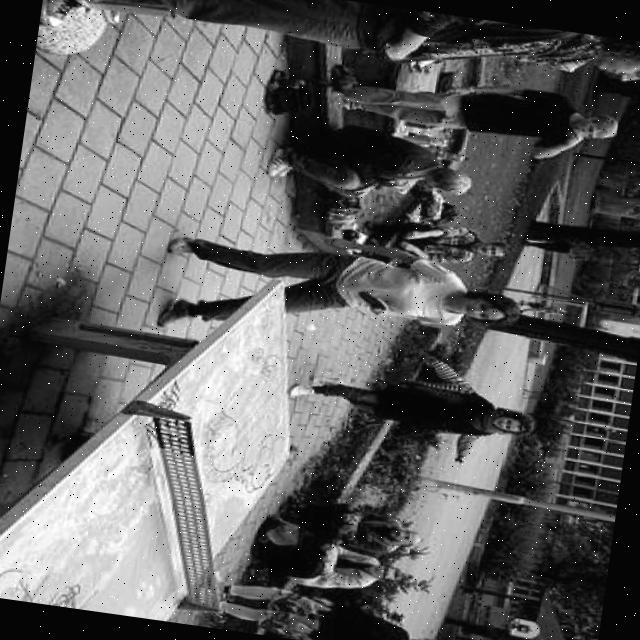ping-pong-ball: (305, 323, 317, 332)
